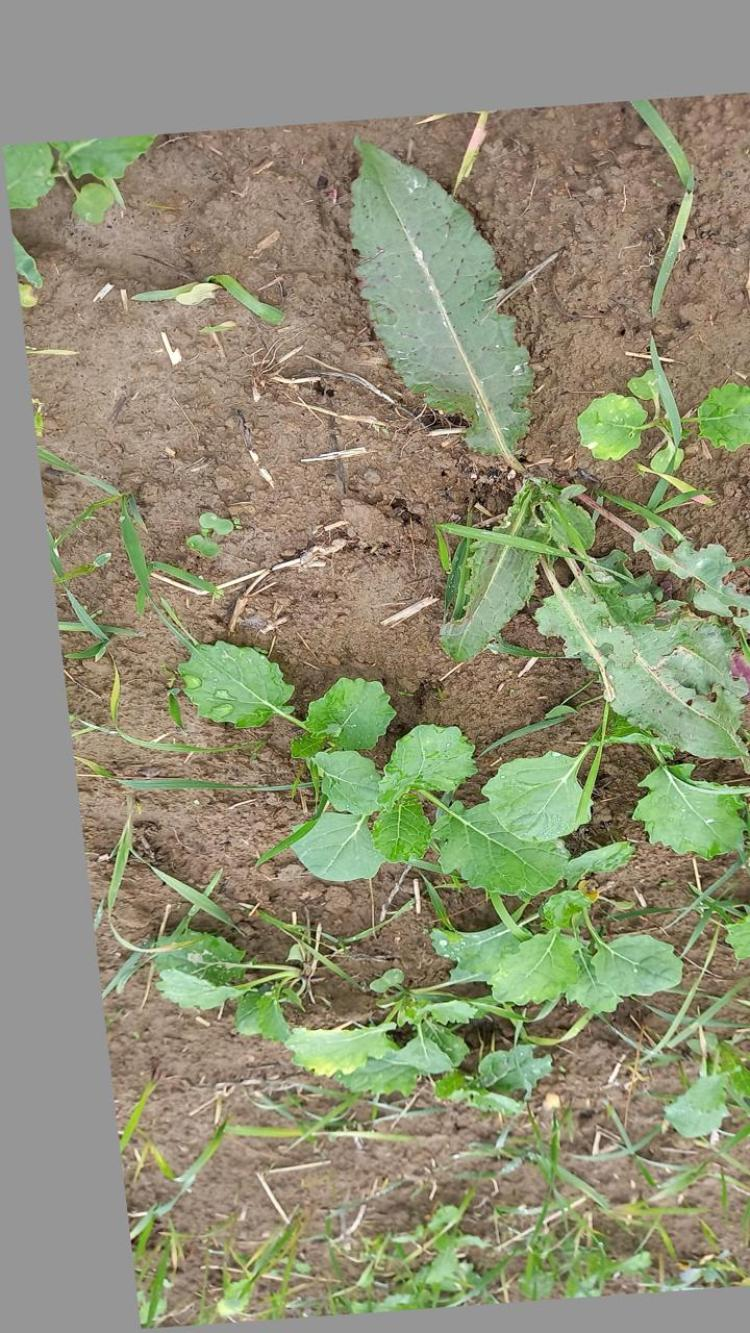zhavel: (343, 131, 750, 762)
